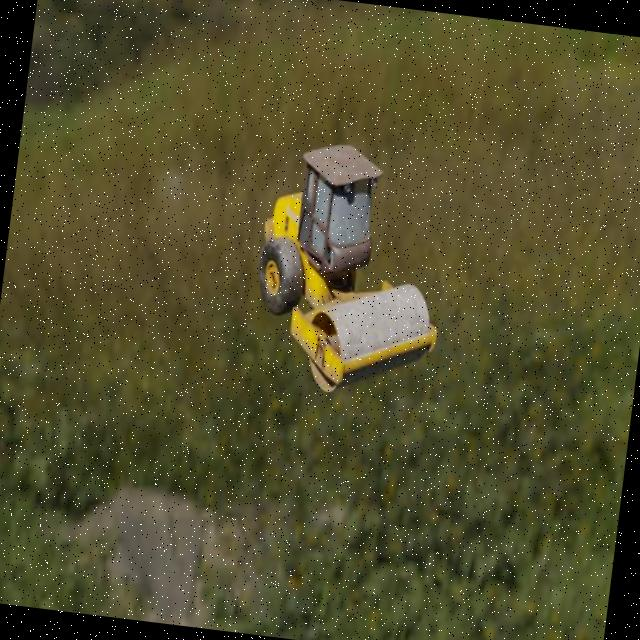Roller: (243, 135, 458, 404)
